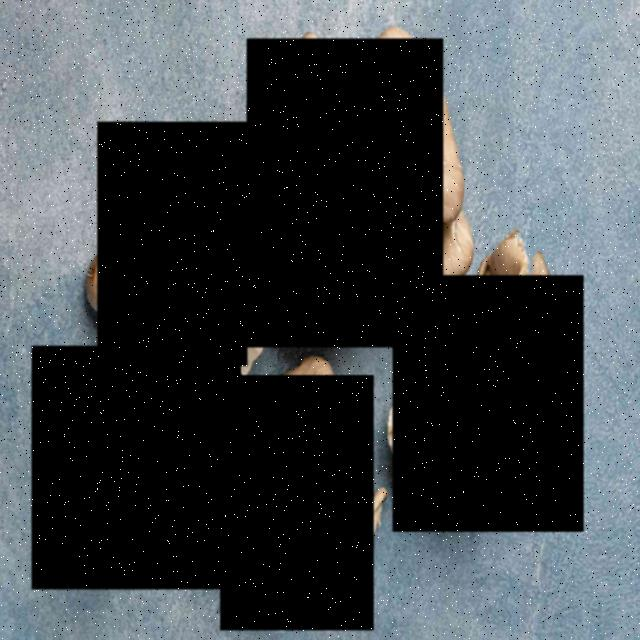Mushroom: (247, 39, 443, 348), (32, 346, 241, 589), (393, 275, 584, 532), (220, 375, 374, 630), (98, 122, 248, 366)
